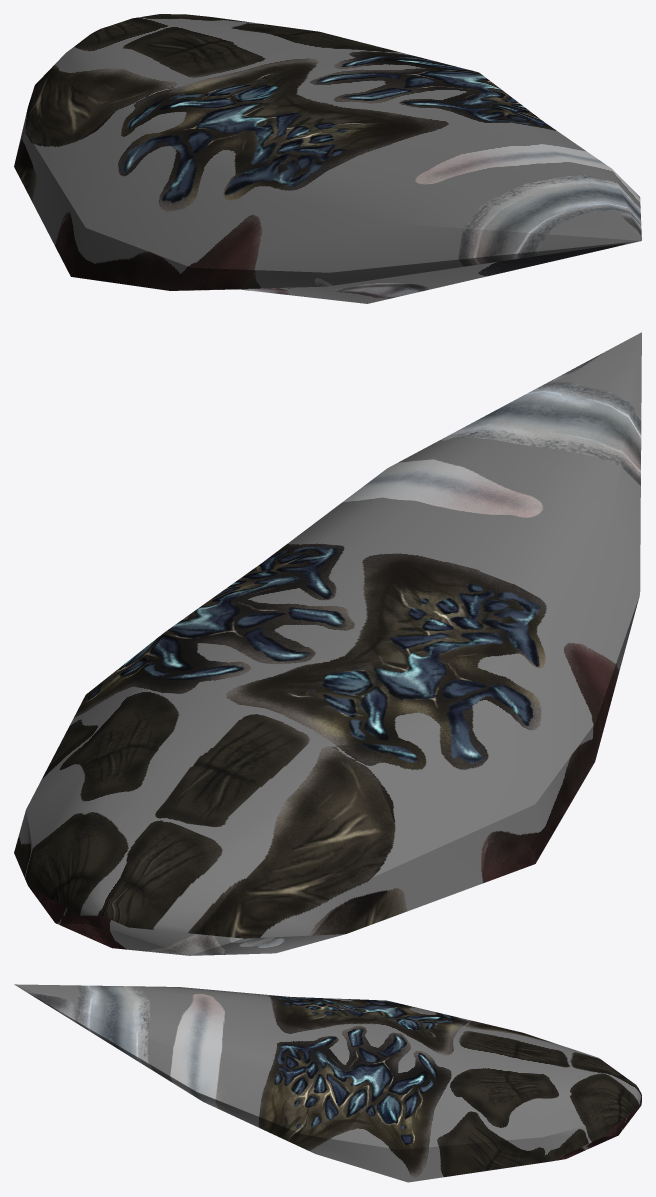
The model's file is spike.fbx.
3 renders of one model, top to bottom at view 1: azimuth 30°, elevation 25°; view 2: azimuth 150°, elevation 25°; view 3: azimuth 270°, elevation 25°, orthographic. The views are drawn at different scales.
Parts seen in each view (by area): view 1: spike; view 2: spike; view 3: spike.
Boxes of the visible parts, <box> form: spike: <box>14,14,641,303</box>; spike: <box>14,332,641,955</box>; spike: <box>14,984,641,1182</box>.
Bounding box in the file's own units: 2.4 × 1.23 × 4.82.
